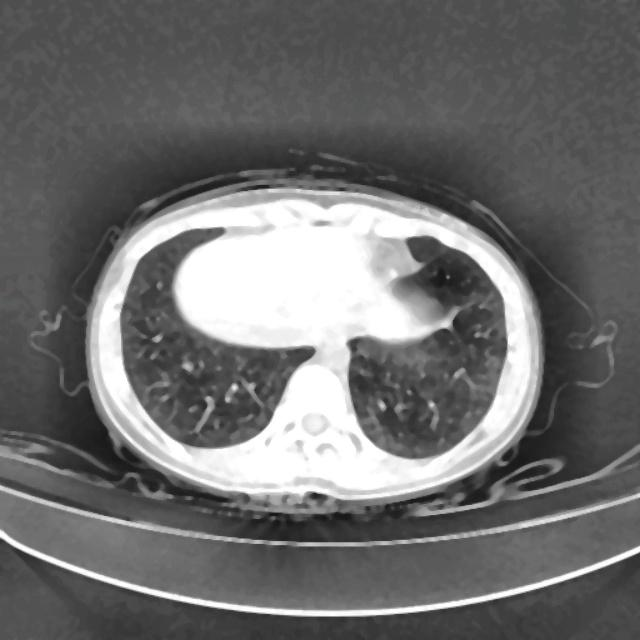covid: (80, 166, 547, 515)
